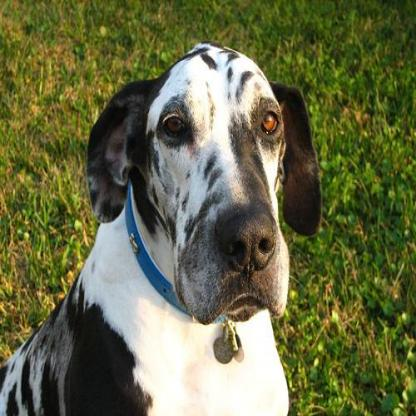Great_Dane: (0, 40, 324, 414)
